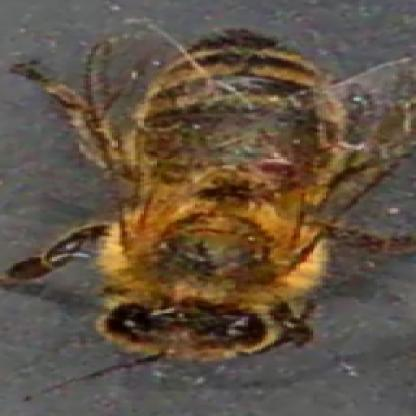bee: (85, 32, 364, 364)
vaoora: (262, 158, 291, 171)
